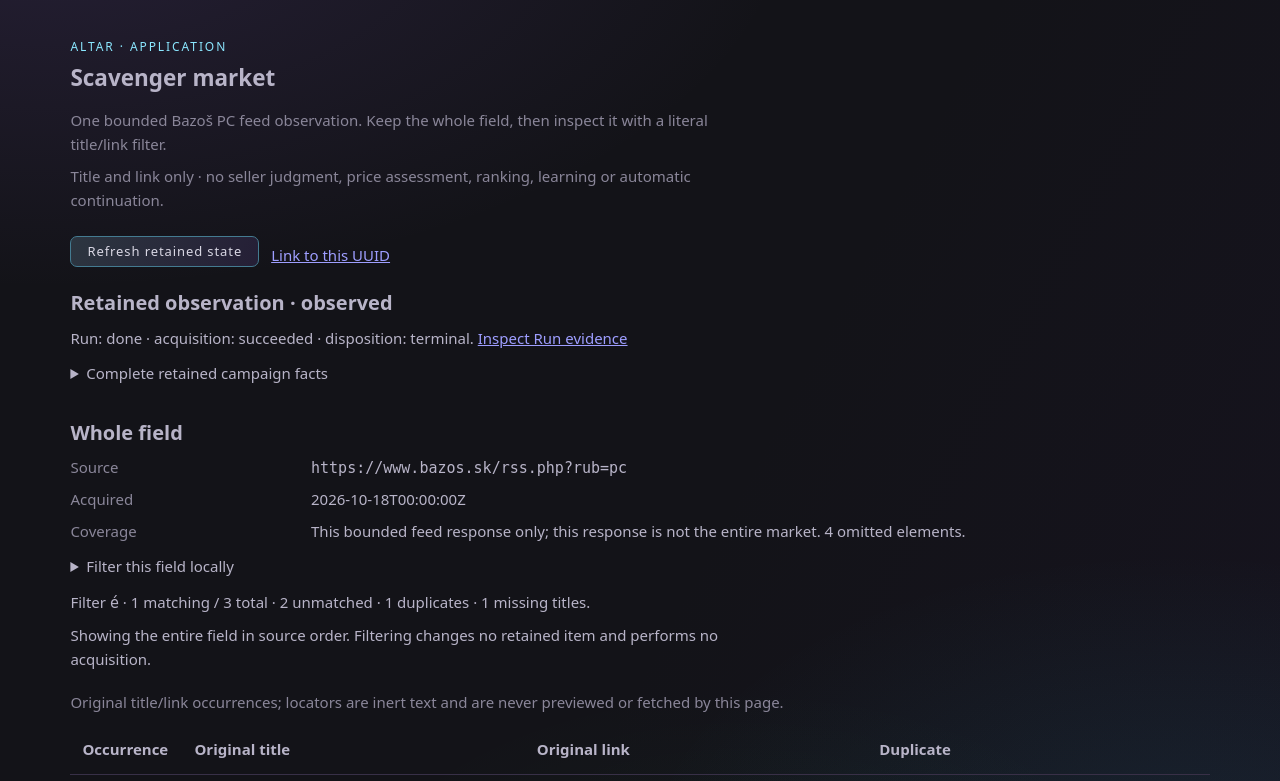
Scenario: renders exact canonical integer facts as text without rounding through JavaScript numbers
expect the heading "Whole field" is shown: met, box [70,419,183,446]
Click the heading "Complete retained campaign facts" at (207, 373), box [86,363,328,383]
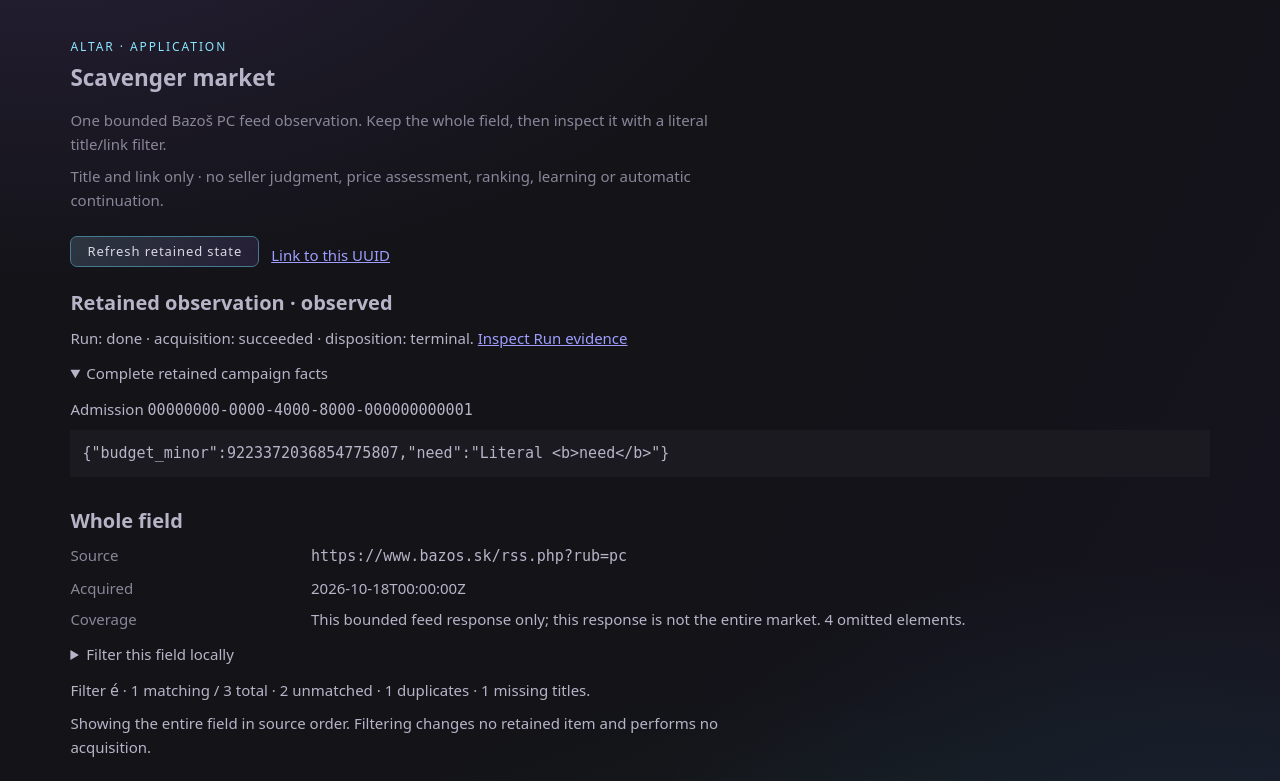
expect the text "{\"budget_minor\":9223372036854775807,\"need\":\"Literal <b>need</b>\"}" is shown: met, box [70,430,1210,477]
